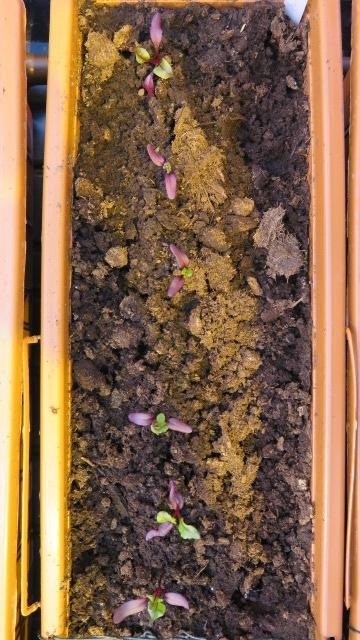crop: (141, 474, 202, 544), (130, 9, 176, 99), (109, 582, 190, 626), (144, 141, 178, 202), (125, 407, 193, 437), (166, 238, 193, 300)
